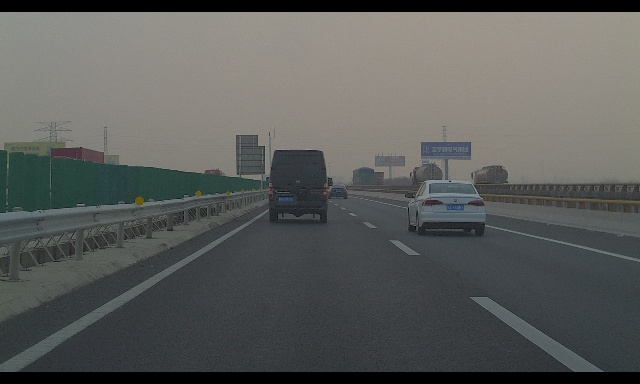car: (265, 150, 333, 223), (405, 179, 486, 236), (328, 184, 348, 199)
truck: (48, 147, 104, 195), (471, 165, 509, 192), (410, 162, 443, 189), (204, 168, 226, 189), (352, 167, 374, 187), (369, 172, 384, 187)
